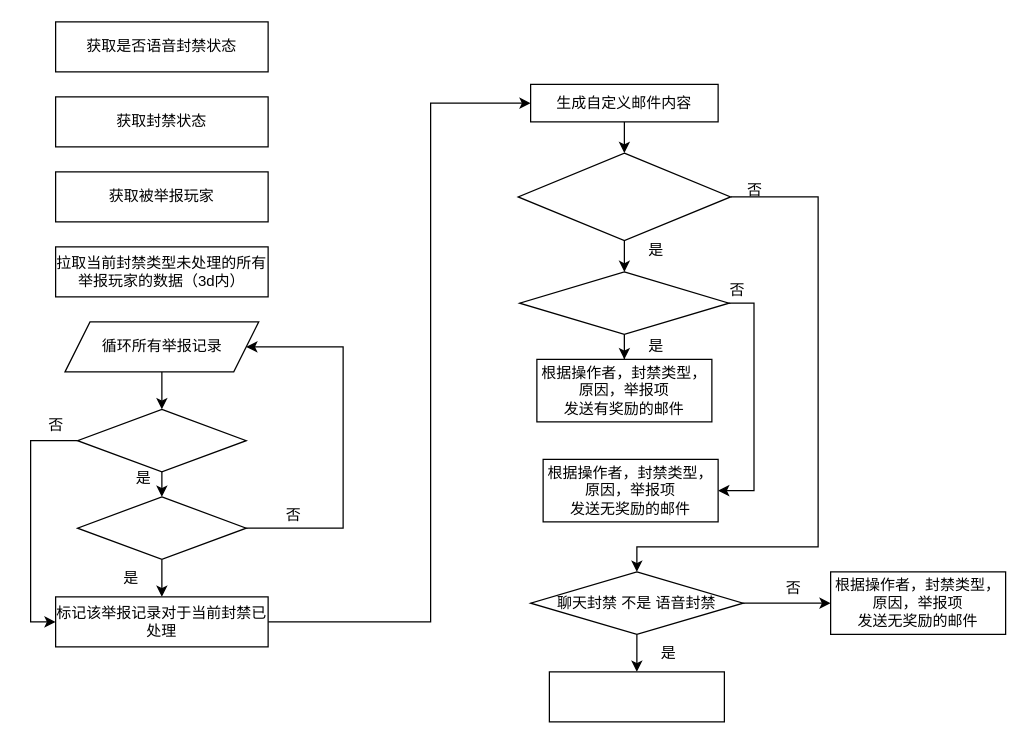
This 1028x744 diagram has some shape labels left out. Here are the shapes that lost their labels. From the top down, the centre of each, then its label:
the point at 624,196: 天梯模式&登录封禁 &开启保星卡功能
the point at 623,302: 永久封禁
the point at 161,440: 语音封禁
the point at 161,527: 举报内容含有 恶意辱骂
the point at 636,696: 获取聊天封禁邮件Id
